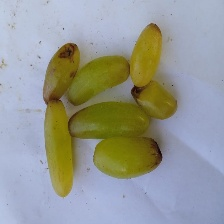grapes: (35, 49, 208, 197)
